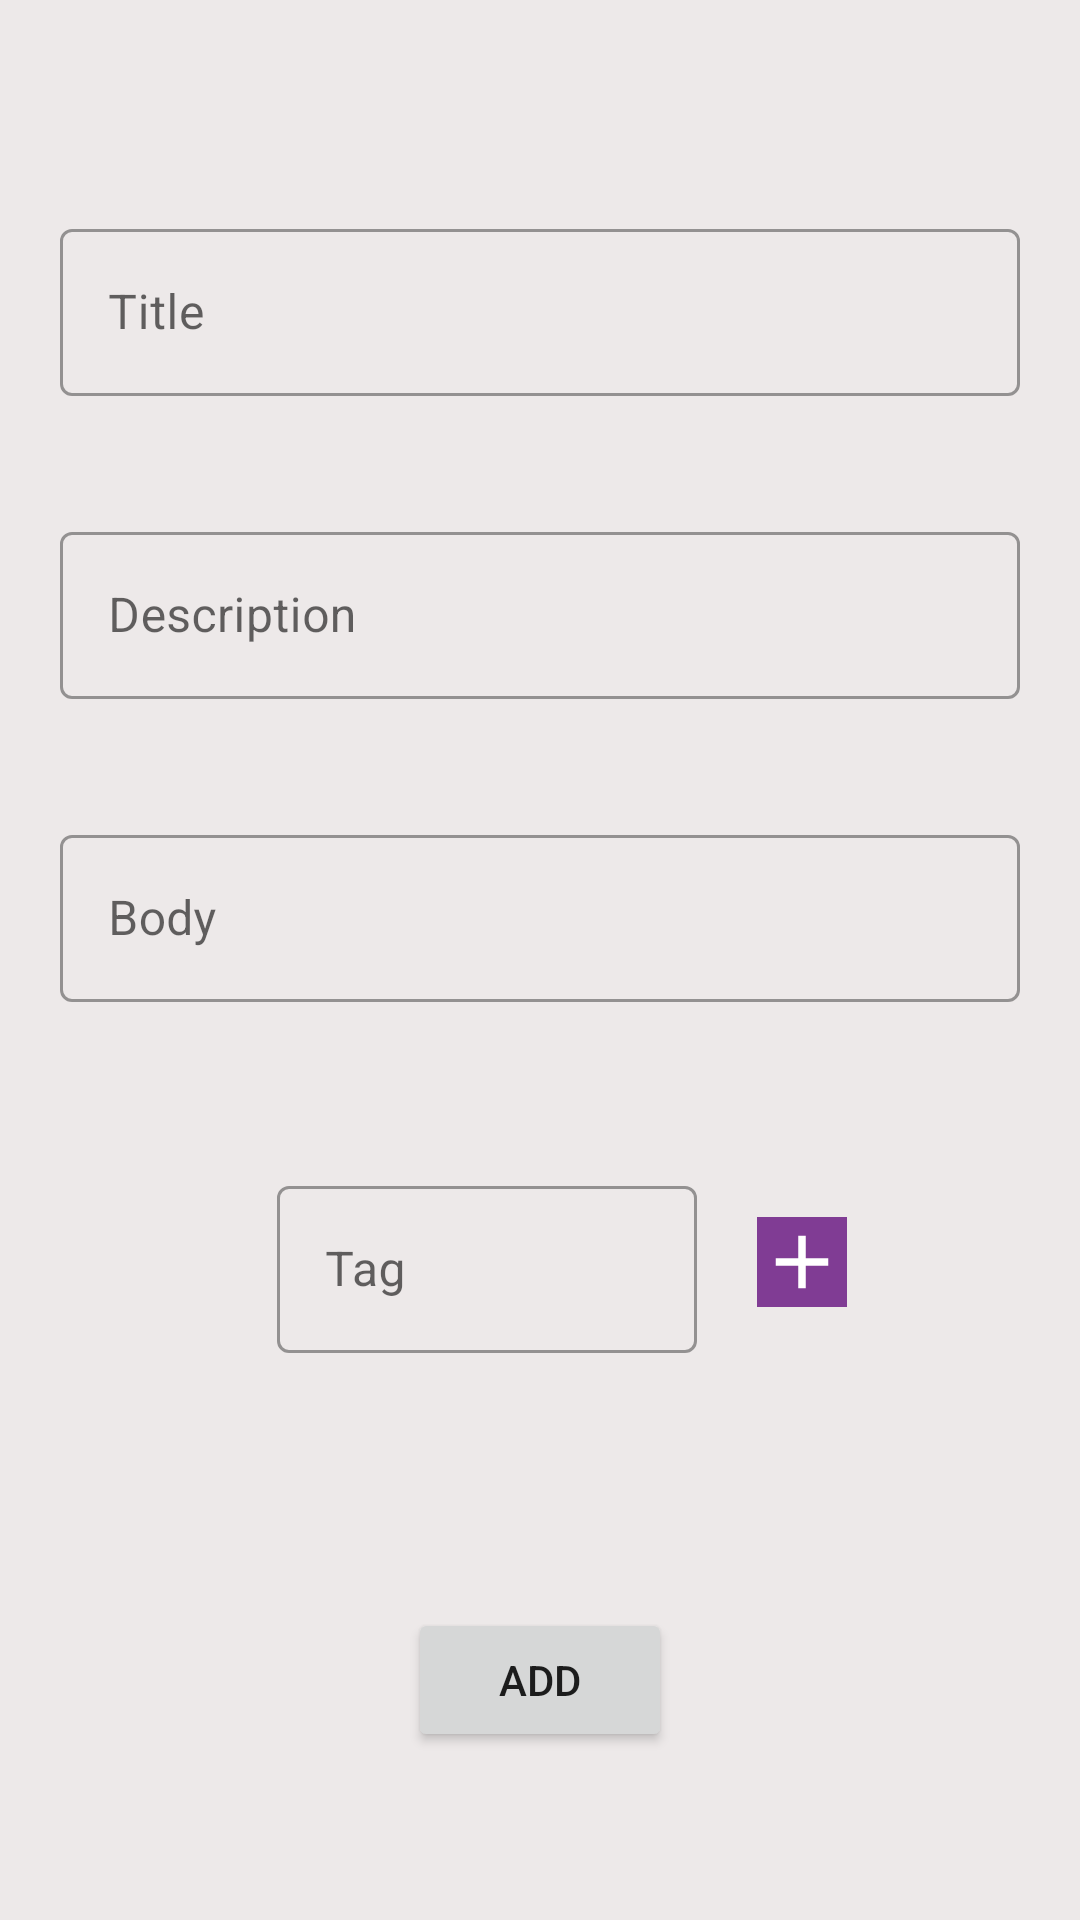

Icons on this 1080w x 1920h Android screen, each with its box as (x1, y1, x2, y2):
add: (757, 1217, 847, 1307)
